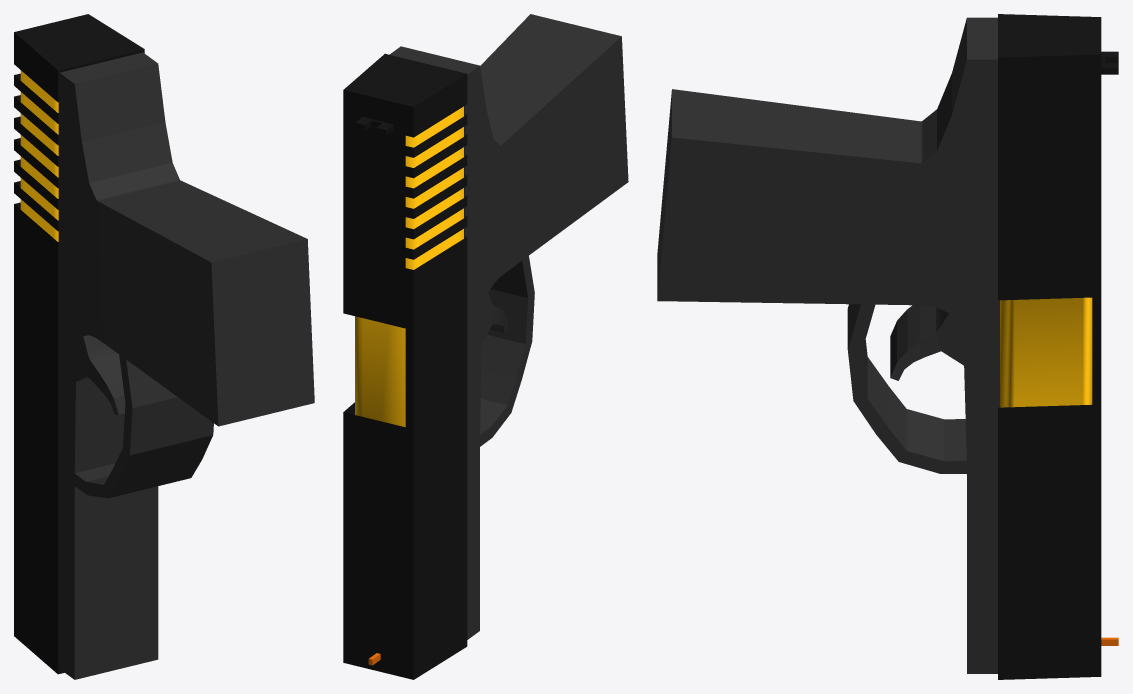
Rendered from Gun.fbx.
The picture shows the model from 3 angles, left to right: view 1: azimuth 30°, elevation 25°; view 2: azimuth 150°, elevation 25°; view 3: azimuth 270°, elevation 25°; orthographic projection. The views are drawn at different scales.
Parts seen in each view (by area): view 1: Cube.006; view 2: Cube.006; view 3: Cube.006.
Part boxes in pixels (<box>): Cube.006: <box>14,14,314,679</box>; Cube.006: <box>343,14,628,679</box>; Cube.006: <box>657,14,1118,679</box>.
Bounding box in the file's own units: 33.11 × 197 × 132.
